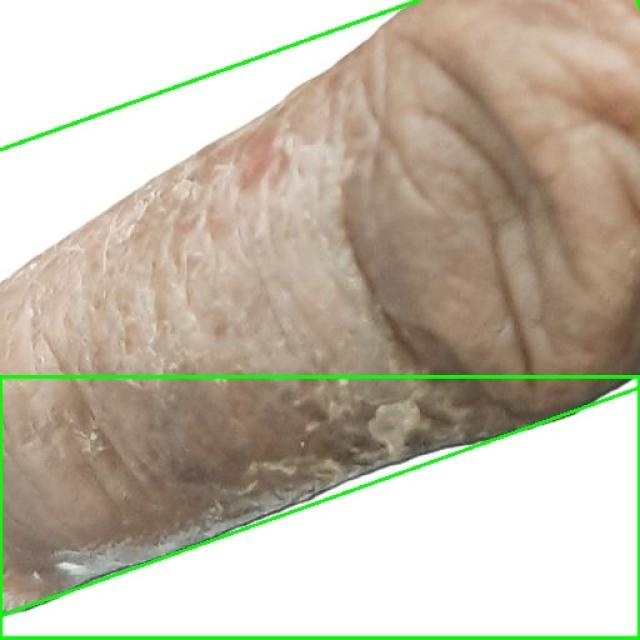Eczema: (0, 0, 640, 615), (0, 378, 639, 639)
